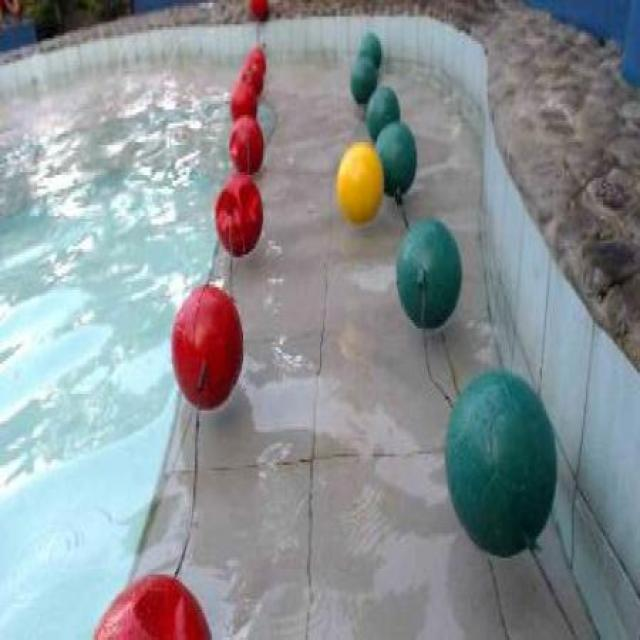buoy: (443, 367, 557, 557), (171, 281, 244, 409), (90, 572, 212, 637), (394, 218, 461, 330), (213, 171, 263, 256), (336, 141, 381, 226), (375, 121, 416, 196), (228, 114, 264, 170), (366, 85, 401, 140), (350, 52, 377, 102), (229, 79, 257, 123), (236, 59, 262, 95), (358, 33, 380, 71)
